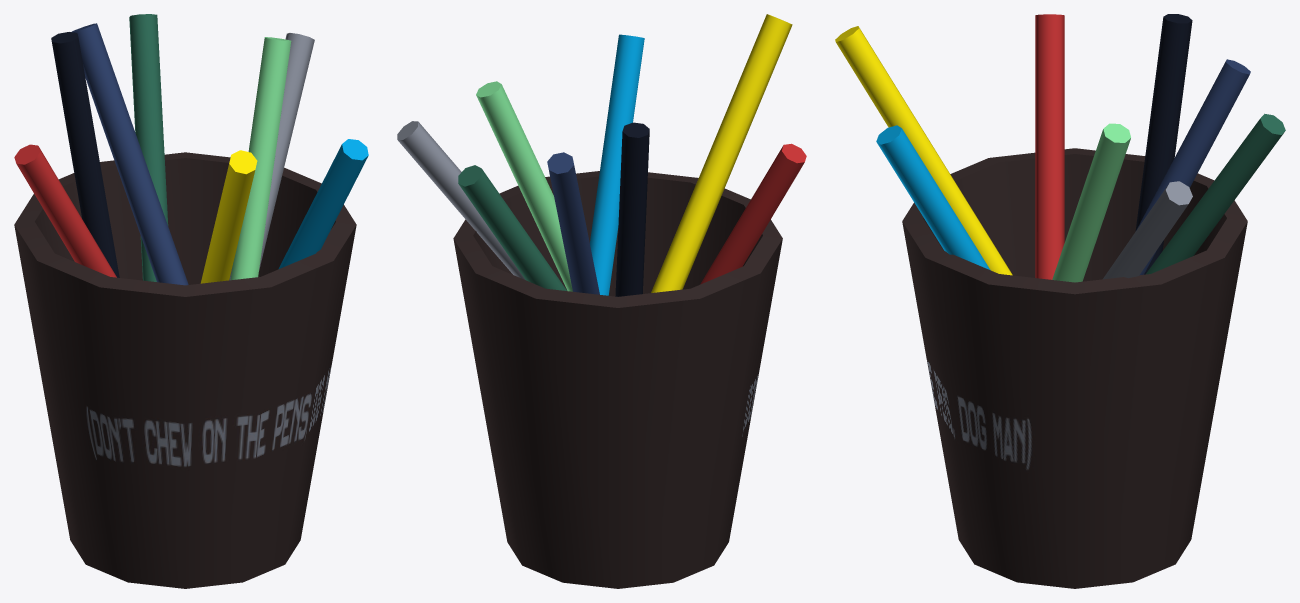
Rendered from PenCup.fbx.
3 renders of one model, left to right at view 1: azimuth 30°, elevation 25°; view 2: azimuth 150°, elevation 25°; view 3: azimuth 270°, elevation 25°, orthographic. The views are drawn at different scales.
Visible parts, largest first — view 1: pCylinder32; view 2: pCylinder32; view 3: pCylinder32.
Part boxes in pixels (x1,y1,x2,y2): pCylinder32: [14, 14, 368, 588]; pCylinder32: [397, 14, 806, 588]; pCylinder32: [835, 14, 1285, 588].
Size of the model in its own units: 14.49 by 18.66 by 15.58.
1 material, 1 textured.
